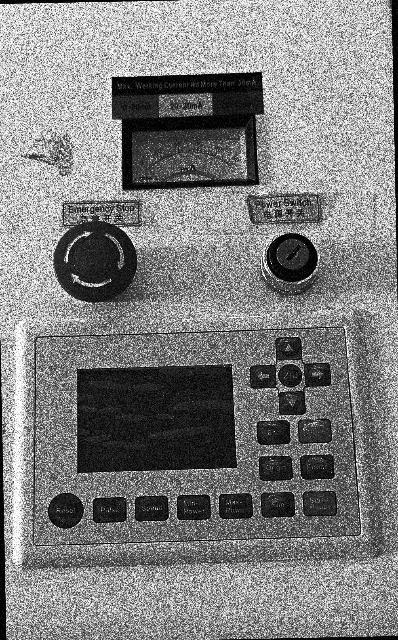Amp_Meter: (122, 115, 258, 186)
Display: (77, 365, 236, 471)
Down_button: (279, 390, 305, 414)
Emergency_Stop: (53, 220, 137, 302)
Enter_button: (299, 419, 331, 443)
Esc_button: (257, 420, 290, 444)
File_button: (261, 493, 295, 517)
Frame_button: (301, 455, 334, 479)
Left_button: (250, 364, 276, 388)
Max-Power_button: (219, 494, 252, 518)
Min-Power_button: (177, 495, 210, 519)
Origin_button: (259, 456, 293, 480)
Power_switch: (261, 232, 319, 295)
Pulse_button: (93, 498, 127, 521)
Reset_button: (48, 493, 83, 528)
Right_button: (305, 364, 331, 386)
Speed_button: (135, 496, 169, 520)
Start-Pause_button: (303, 490, 336, 515)
Up_button: (276, 337, 302, 360)
Z_U_button: (279, 364, 301, 387)
